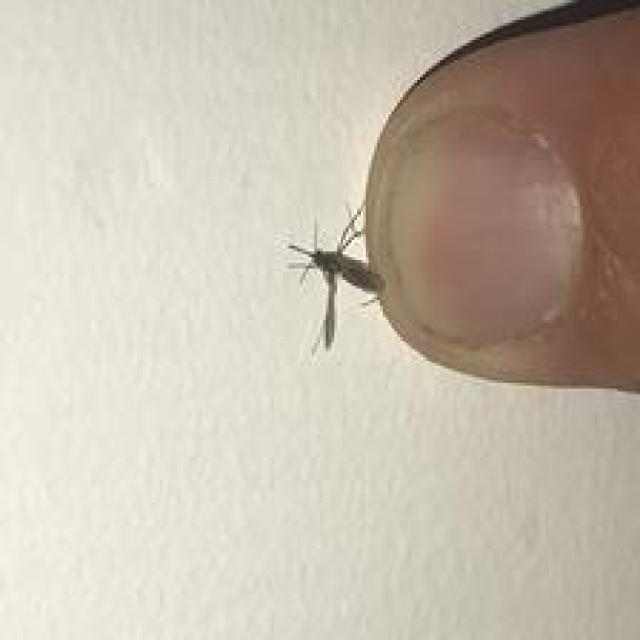Culex: (284, 201, 384, 353)
